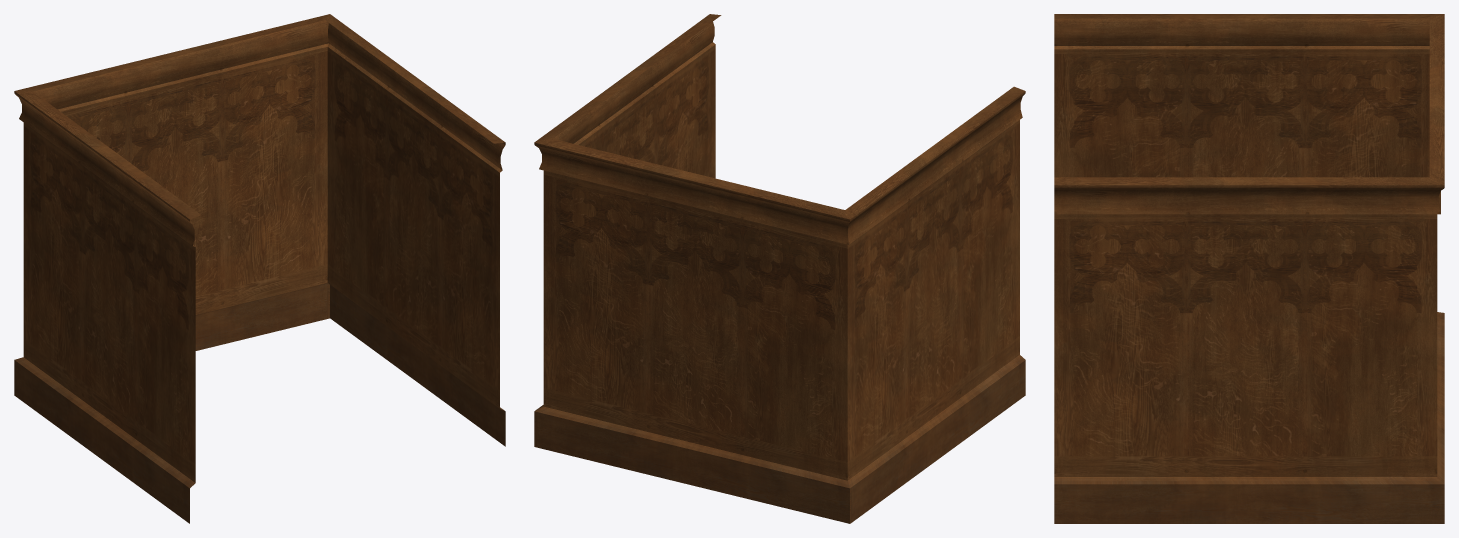
Rendered from SM_Wallbar_Carv_down.fbx.
The picture shows the model from 3 angles, left to right: view 1: azimuth 30°, elevation 25°; view 2: azimuth 150°, elevation 25°; view 3: azimuth 270°, elevation 25°; orthographic projection. The views are drawn at different scales.
Parts seen in each view (by area): view 1: SM_Wallbar_Carv_down; view 2: SM_Wallbar_Carv_down; view 3: SM_Wallbar_Carv_down.
Boxes of the visible parts, box(x1,y1,x2,y2) form: SM_Wallbar_Carv_down: box(14, 14, 505, 523); SM_Wallbar_Carv_down: box(534, 14, 1025, 523); SM_Wallbar_Carv_down: box(1054, 14, 1444, 523).
Size of the model in its own units: 108 by 100 by 104.
